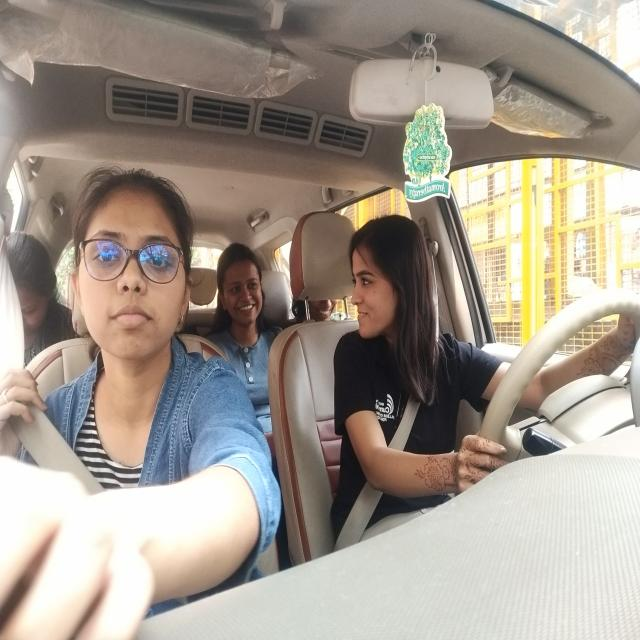LeftRight: (354, 210, 435, 358)
person: (77, 170, 194, 363), (4, 231, 61, 341), (214, 238, 268, 343), (303, 288, 348, 323)
